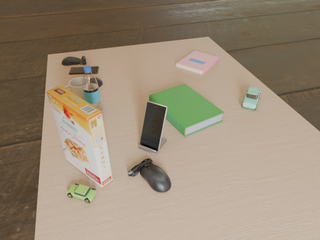book: (149, 84, 224, 137), (176, 51, 219, 74)
bottle: (83, 66, 102, 110)
box: (47, 86, 112, 188)
cup: (64, 77, 85, 100)
mouse: (128, 159, 171, 192), (62, 56, 86, 65)
phone: (140, 101, 168, 151)
toy_car: (67, 184, 97, 203), (242, 87, 260, 110)
